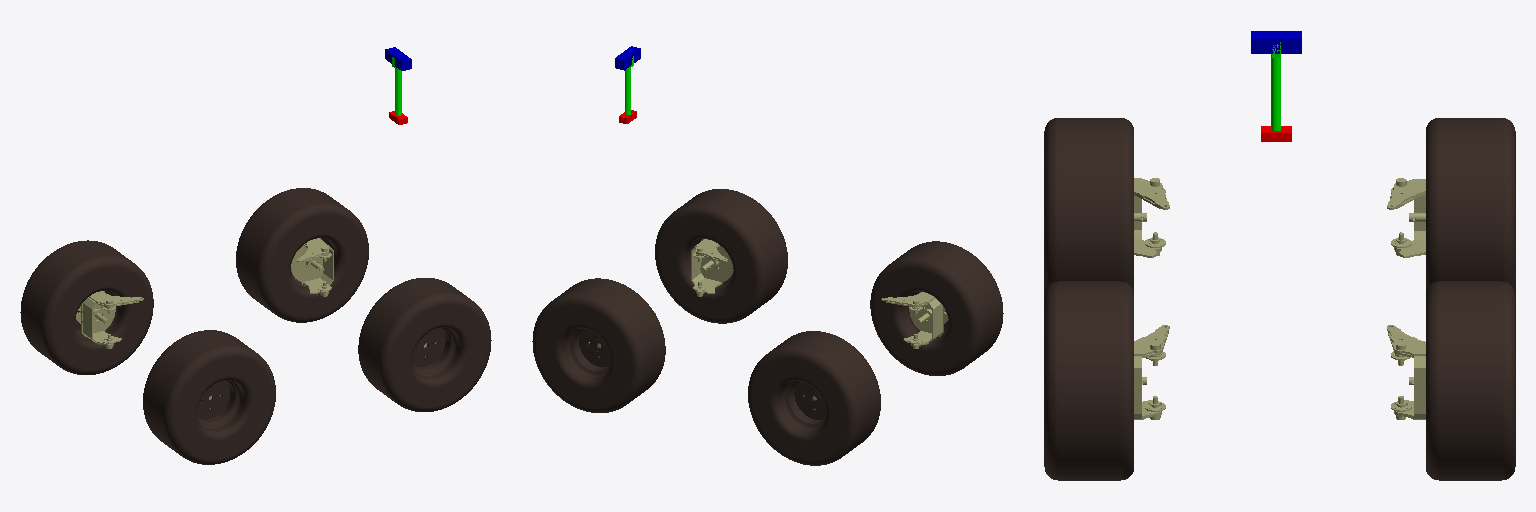
The robot description file, URDF, robot "h500_sprayer":
<?xml version="1.0" encoding="utf-8"?>
<!-- =================================================================================== -->
<!-- |    This document was autogenerated by xacro from [local-path]/catkin_redevel_ws/src/hada_explorer_bot/hada_explorer_description/urdf/h500_realsense.urdf.xacro | -->
<!-- |    EDITING THIS FILE BY HAND IS NOT RECOMMENDED                                 | -->
<!-- =================================================================================== -->
<!-- =================================================================================== -->
<!-- |    This document was autogenerated by xacro from [local-path]/catkin_redevel_ws/src/hada_explorer_bot/hada_explorer_description/urdf/h500.urdf.xacro | -->
<!-- |    EDITING THIS FILE BY HAND IS NOT RECOMMENDED                                 | -->
<!-- =================================================================================== -->
<robot name="h500_sprayer">
  <!-- =============== Link & Joint =============== -->
  <!-- realsense camera -->
  <material name="aluminum">
    <color rgba="0.5 0.5 0.5 1"/>
  </material>
  <material name="plastic">
    <color rgba="0.1 0.1 0.1 1"/>
  </material>
  <material name="invisible">
    <color rgba="0 0 0 0"/>
  </material>
  <material name="green">
    <color rgba="0 1 0 1"/>
  </material>
  <material name="grey">
    <color rgba="0.9 0.9 0.9 1"/>
  </material>
  <link name="base_link"/>
  <!-- camera body, with origin at bottom screw mount -->
  <joint name="camera_joint" type="fixed">
    <origin rpy="0 0 0" xyz="0 0 0"/>
    <parent link="base_link"/>
    <child link="camera_bottom_screw_frame"/>
  </joint>
  <link name="camera_bottom_screw_frame"/>
  <joint name="camera_link_joint" type="fixed">
    <origin rpy="0 0 0" xyz="0.0106 0.0175 0.0125"/>
    <parent link="camera_bottom_screw_frame"/>
    <child link="camera_link"/>
  </joint>
  <link name="camera_link">
    <visual>
      <!-- the mesh origin is at front plate in between the two infrared camera axes -->
      <origin rpy="1.57079632679 0 1.57079632679" xyz="0.0043 -0.0175 0"/>
      <geometry>
        <mesh filename="package://realsense2_description/meshes/d435.dae"/>
      </geometry>
    </visual>
    <collision>
      <origin rpy="0 0 0" xyz="0 -0.0175 0"/>
      <geometry>
        <box size="0.02505 0.09 0.025"/>
      </geometry>
    </collision>
    <inertial>
      <!-- The following are not reliable values, and should not be used for modeling -->
      <mass value="0.072"/>
      <origin xyz="0 0 0"/>
      <inertia ixx="0.003881243" ixy="0.0" ixz="0.0" iyy="0.000498940" iyz="0.0" izz="0.003879257"/>
    </inertial>
  </link>
  <!-- camera depth joints and links -->
  <joint name="camera_depth_joint" type="fixed">
    <origin rpy="0 0 0" xyz="0 0 0"/>
    <parent link="camera_link"/>
    <child link="camera_depth_frame"/>
  </joint>
  <link name="camera_depth_frame"/>
  <joint name="camera_depth_optical_joint" type="fixed">
    <origin rpy="-1.57079632679 0 -1.57079632679" xyz="0 0 0"/>
    <parent link="camera_depth_frame"/>
    <child link="camera_depth_optical_frame"/>
  </joint>
  <link name="camera_depth_optical_frame"/>
  <!-- camera left IR joints and links -->
  <joint name="camera_infra1_joint" type="fixed">
    <origin rpy="0 0 0" xyz="0 0.0 0"/>
    <parent link="camera_link"/>
    <child link="camera_infra1_frame"/>
  </joint>
  <link name="camera_infra1_frame"/>
  <joint name="camera_infra1_optical_joint" type="fixed">
    <origin rpy="-1.57079632679 0 -1.57079632679" xyz="0 0 0"/>
    <parent link="camera_infra1_frame"/>
    <child link="camera_infra1_optical_frame"/>
  </joint>
  <link name="camera_infra1_optical_frame"/>
  <!-- camera right IR joints and links -->
  <joint name="camera_infra2_joint" type="fixed">
    <origin rpy="0 0 0" xyz="0 -0.05 0"/>
    <parent link="camera_link"/>
    <child link="camera_infra2_frame"/>
  </joint>
  <link name="camera_infra2_frame"/>
  <joint name="camera_infra2_optical_joint" type="fixed">
    <origin rpy="-1.57079632679 0 -1.57079632679" xyz="0 0 0"/>
    <parent link="camera_infra2_frame"/>
    <child link="camera_infra2_optical_frame"/>
  </joint>
  <link name="camera_infra2_optical_frame"/>
  <!-- camera color joints and links -->
  <joint name="camera_color_joint" type="fixed">
    <origin rpy="0 0 0" xyz="0 0.015 0"/>
    <parent link="camera_link"/>
    <child link="camera_color_frame"/>
  </joint>
  <link name="camera_color_frame"/>
  <joint name="camera_color_optical_joint" type="fixed">
    <origin rpy="-1.57079632679 0 -1.57079632679" xyz="0 0 0"/>
    <parent link="camera_color_frame"/>
    <child link="camera_color_optical_frame"/>
  </joint>
  <link name="camera_color_optical_frame"/>
  <material name="blue">
    <color rgba="0 0 0.8 1"/>
  </material>
  <material name="red">
    <color rgba="1 0 0 1"/>
  </material>
  <material name="white">
    <color rgba="1 1 1 1"/>
  </material>
  <!-- camera and frame joint -->
  <link name="rbot_base2">
    <visual>
      <geometry>
        <box size="0.045 0.09 0.03"/>
      </geometry>
      <origin rpy="0 0 0" xyz="0 0 0"/>
      <material name="red"/>
    </visual>
  </link>
  <link name="servo_bottom2">
    <visual>
      <geometry>
        <cylinder length="0.25" radius="0.015"/>
      </geometry>
      <origin rpy="0 0 0" xyz="0 0 0"/>
      <material name="green"/>
    </visual>
  </link>
  <link name="up_mount2">
    <visual>
      <geometry>
        <box size="0.05 0.148 0.05"/>
      </geometry>
      <origin rpy="0 0. 0" xyz="0 0 0"/>
      <material name="blue"/>
    </visual>
  </link>
  <joint name="base_to_Servo_B2" type="fixed">
    <parent link="rbot_base2"/>
    <child link="servo_bottom2"/>
    <origin xyz="0 0 0.14"/>
  </joint>
  <joint name="servo_bottom_to_up_mount2" type="fixed">
    <parent link="servo_bottom2"/>
    <child link="up_mount2"/>
    <origin xyz="0 0 0.15"/>
  </joint>
  <joint name="mount_to_camera2" type="fixed">
    <parent link="up_mount2"/>
    <child link="base_link"/>
    <origin rpy="0 0 0" xyz="0.03 0 0.001"/>
  </joint>
  <!-- imu on camera -->
  <link name="imu_link">
    <visual>
      <geometry>
        <box size="0.05 0.026 0.05"/>
      </geometry>
      <material name="green"/>
    </visual>
  </link>
  <joint name="imu_joint" type="fixed">
    <origin rpy="0 0 0" xyz="0.0 0.0 0.28"/>
    <parent link="rbot_base2"/>
    <child link="imu_link"/>
  </joint>
  <!-- robot_base to frame stand camera base -->
  <joint name="baseto_framestand" type="fixed">
    <origin rpy="0 0 0" xyz="0.85 0 1.00"/>
    <parent link="robot_base"/>
    <child link="rbot_base2"/>
  </joint>
  <!-- Base -->
  <link name="base_footprint"/>
  <joint name="robot_base_joint" type="fixed">
    <origin rpy="0 0 0" xyz="0 0 0.15"/>
    <!-- 0 0 0.05 -->
    <parent link="base_footprint"/>
    <child link="robot_base"/>
  </joint>
  <link name="robot_base">
    <visual>
      <geometry>
        <mesh filename="package://h500_description/meshes/DAE/base/h500_body.dae"/>
      </geometry>
    </visual>
    <collision>
      <geometry>
        <mesh filename="package://h500_description/meshes/DAE/base/h500_body.dae"/>
      </geometry>
    </collision>
    <inertial>
      <origin xyz="0 0 0.017"/>
      <mass value="1.2"/>
      <inertia ixx="0.0001873" ixy="0" ixz="0" iyy="0.000055" iyz="0" izz="0.0002283"/>
    </inertial>
  </link>
  <joint name="front_right_steering_joint" type="revolute">
    <origin xyz="-0.442 0.361 0.0135"/>
    <parent link="robot_base"/>
    <child link="front_right_steering_link"/>
    <limit effort="5" lower="-2.1" upper="2.1" velocity="6.28"/>
    <axis xyz="0 0 2."/>
  </joint>
  <link name="front_right_steering_link">
    <visual>
      <geometry>
        <mesh filename="package://h500_description/meshes/DAE/suspension/front_right_link.dae"/>
      </geometry>
    </visual>
    <collision>
      <geometry>
        <mesh filename="package://h500_description/meshes/DAE/suspension/front_right_link.dae"/>
      </geometry>
    </collision>
    <inertial>
      <origin xyz="0 0 -0.02"/>
      <mass value="0.15"/>
      <inertia ixx="0.00001" ixy="0" ixz="0" iyy="0.00001" iyz="0" izz="0.000004"/>
    </inertial>
  </link>
  <joint name="front_left_steering_joint" type="revolute">
    <origin xyz="-0.442 -0.3495 0.0135"/>
    <parent link="robot_base"/>
    <child link="front_left_steering_link"/>
    <limit effort="5" lower="-2.1" upper="2.1" velocity="6.28"/>
    <axis xyz="0 0 1"/>
  </joint>
  <link name="front_left_steering_link">
    <visual>
      <geometry>
        <mesh filename="package://h500_description/meshes/DAE/suspension/front_left_link.dae"/>
      </geometry>
    </visual>
    <collision>
      <geometry>
        <mesh filename="package://h500_description/meshes/DAE/suspension/front_left_link.dae"/>
      </geometry>
    </collision>
    <inertial>
      <origin xyz="0 0 -0.02"/>
      <mass value="0.15"/>
      <inertia ixx="0.00001" ixy="0" ixz="0" iyy="0.00001" iyz="0" izz="0.000004"/>
    </inertial>
  </link>
  <joint name="rear_right_steering_joint" type="revolute">
    <origin xyz="0.676 0.361 0.0135"/>
    <parent link="robot_base"/>
    <child link="rear_right_steering_link"/>
    <limit effort="5" lower="-2.1" upper="2.1" velocity="6.28"/>
    <axis xyz="0 0 1"/>
  </joint>
  <link name="rear_right_steering_link">
    <visual>
      <geometry>
        <mesh filename="package://h500_description/meshes/DAE/suspension/rear_right_link.dae"/>
      </geometry>
    </visual>
    <collision>
      <geometry>
        <mesh filename="package://h500_description/meshes/DAE/suspension/rear_right_link.dae"/>
      </geometry>
    </collision>
    <inertial>
      <origin xyz="0 0 -0.02"/>
      <mass value="0.15"/>
      <inertia ixx="0.00001" ixy="0" ixz="0" iyy="0.00001" iyz="0" izz="0.000004"/>
    </inertial>
  </link>
  <joint name="rear_left_steering_joint" type="revolute">
    <origin xyz="0.676 -0.3495 0.0135"/>
    <parent link="robot_base"/>
    <child link="rear_left_steering_link"/>
    <limit effort="5" lower="-2.1" upper="2.1" velocity="6.28"/>
    <axis xyz="0 0 1"/>
  </joint>
  <link name="rear_left_steering_link">
    <visual>
      <geometry>
        <mesh filename="package://h500_description/meshes/DAE/suspension/rear_left_link.dae"/>
      </geometry>
    </visual>
    <collision>
      <geometry>
        <mesh filename="package://h500_description/meshes/DAE/suspension/rear_left_link.dae"/>
      </geometry>
    </collision>
    <inertial>
      <origin xyz="0 0 -0.02"/>
      <mass value="0.15"/>
      <inertia ixx="0.00001" ixy="0" ixz="0" iyy="0.00001" iyz="0" izz="0.000004"/>
    </inertial>
  </link>
  <joint name="ffr_wheel_joint" type="continuous">
    <origin rpy="0 0 3.14159274" xyz="-0.0004 0.07 0.118"/>
    <parent link="front_right_steering_link"/>
    <child link="ffr_wheel_link"/>
    <limit effort="1.5" velocity="20"/>
    <axis xyz="0 1 0"/>
  </joint>
  <link name="ffr_wheel_link">
    <visual>
      <geometry>
        <mesh filename="package://h500_description/meshes/DAE/wheel/H500_wheel.dae"/>
      </geometry>
    </visual>
    <collision>
      <geometry>
        <mesh filename="package://h500_description/meshes/DAE/wheel/H500_wheel.dae"/>
      </geometry>
    </collision>
    <inertial>
      <origin xyz="0.0 -0.007 -0.0"/>
      <mass value="0.05"/>
      <inertia ixx="0.00001" ixy="0" ixz="0" iyy="0.000018" iyz="0" izz="0.00001"/>
    </inertial>
  </link>
  <joint name="ffl_wheel_joint" type="continuous">
    <origin rpy="0 0 3.14159274" xyz="-0.0004 -0.32 0.118"/>
    <parent link="front_left_steering_link"/>
    <child link="ffl_wheel_link"/>
    <limit effort="1.5" velocity="20"/>
    <axis xyz="0 -1 0"/>
  </joint>
  <link name="ffl_wheel_link">
    <visual>
      <geometry>
        <mesh filename="package://h500_description/meshes/DAE/wheel/H500_wheel.dae"/>
      </geometry>
    </visual>
    <collision>
      <geometry>
        <mesh filename="package://h500_description/meshes/DAE/wheel/H500_wheel.dae"/>
      </geometry>
    </collision>
    <inertial>
      <origin xyz="0.0 -0.007 -0.0"/>
      <mass value="0.05"/>
      <inertia ixx="0.00001" ixy="0" ixz="0" iyy="0.000018" iyz="0" izz="0.00001"/>
    </inertial>
  </link>
  <joint name="rfr_wheel_joint" type="continuous">
    <origin rpy="0 0 3.14159274" xyz="-0.0004 0.07 0.118"/>
    <parent link="rear_right_steering_link"/>
    <child link="rfr_wheel_link"/>
    <limit effort="1.5" velocity="20"/>
    <axis xyz="0 1 0"/>
  </joint>
  <link name="rfr_wheel_link">
    <visual>
      <geometry>
        <mesh filename="package://h500_description/meshes/DAE/wheel/H500_wheel.dae"/>
      </geometry>
    </visual>
    <collision>
      <geometry>
        <mesh filename="package://h500_description/meshes/DAE/wheel/H500_wheel.dae"/>
      </geometry>
    </collision>
    <inertial>
      <origin xyz="0.0 -0.007 -0.0"/>
      <mass value="0.05"/>
      <inertia ixx="0.00001" ixy="0" ixz="0" iyy="0.000018" iyz="0" izz="0.00001"/>
    </inertial>
  </link>
  <joint name="rfl_wheel_joint" type="continuous">
    <origin rpy="0 0 3.14159274" xyz="-0.0004 -0.32 0.118"/>
    <parent link="rear_left_steering_link"/>
    <child link="rfl_wheel_link"/>
    <limit effort="1.5" velocity="20"/>
    <axis xyz="0 -1 0"/>
  </joint>
  <link name="rfl_wheel_link">
    <visual>
      <geometry>
        <mesh filename="package://h500_description/meshes/DAE/wheel/H500_wheel.dae"/>
      </geometry>
    </visual>
    <collision>
      <geometry>
        <mesh filename="package://h500_description/meshes/DAE/wheel/H500_wheel.dae"/>
      </geometry>
    </collision>
    <inertial>
      <origin xyz="0.0 -0.007 -0.0"/>
      <mass value="0.05"/>
      <inertia ixx="0.00001" ixy="0" ixz="0" iyy="0.000018" iyz="0" izz="0.00001"/>
    </inertial>
  </link>
  <transmission name="ffr_wheel_trans">
    <type>transmission_interface/SimpleTransmission</type>
    <joint name="ffr_wheel_joint">
      <hardwareInterface>hardware_interface/VelocityJointInterface</hardwareInterface>
    </joint>
    <actuator name="ffr_wheel_motor">
      <hardwareInterface>hardware_interface/VelocityJointInterface</hardwareInterface>
      <mechanicalReduction>1</mechanicalReduction>
    </actuator>
  </transmission>
  <transmission name="ffl_wheel_trans">
    <type>transmission_interface/SimpleTransmission</type>
    <joint name="ffl_wheel_joint">
      <hardwareInterface>hardware_interface/VelocityJointInterface</hardwareInterface>
    </joint>
    <actuator name="ffl_wheel_motor">
      <hardwareInterface>hardware_interface/VelocityJointInterface</hardwareInterface>
      <mechanicalReduction>1</mechanicalReduction>
    </actuator>
  </transmission>
  <transmission name="rfr_wheel_trans">
    <type>transmission_interface/SimpleTransmission</type>
    <joint name="rfr_wheel_joint">
      <hardwareInterface>hardware_interface/VelocityJointInterface</hardwareInterface>
    </joint>
    <actuator name="rfr_wheel_motor">
      <hardwareInterface>hardware_interface/VelocityJointInterface</hardwareInterface>
      <mechanicalReduction>1</mechanicalReduction>
    </actuator>
  </transmission>
  <transmission name="rfl_wheel_trans">
    <type>transmission_interface/SimpleTransmission</type>
    <joint name="rfl_wheel_joint">
      <hardwareInterface>hardware_interface/VelocityJointInterface</hardwareInterface>
    </joint>
    <actuator name="rfl_wheel_motor">
      <hardwareInterface>hardware_interface/VelocityJointInterface</hardwareInterface>
      <mechanicalReduction>1</mechanicalReduction>
    </actuator>
  </transmission>
  <transmission name="front_right_steering_trans">
    <type>transmission_interface/SimpleTransmission</type>
    <joint name="front_right_steering_joint">
      <hardwareInterface>hardware_interface/PositionJointInterface</hardwareInterface>
    </joint>
    <actuator name="front_right_steering_motor">
      <hardwareInterface>hardware_interface/PositionJointInterface</hardwareInterface>
      <mechanicalReduction>30</mechanicalReduction>
    </actuator>
  </transmission>
  <transmission name="front_left_steering_trans">
    <type>transmission_interface/SimpleTransmission</type>
    <joint name="front_left_steering_joint">
      <hardwareInterface>hardware_interface/PositionJointInterface</hardwareInterface>
    </joint>
    <actuator name="front_left_steering_motor">
      <hardwareInterface>hardware_interface/PositionJointInterface</hardwareInterface>
      <mechanicalReduction>30</mechanicalReduction>
    </actuator>
  </transmission>
  <transmission name="rear_right_steering_trans">
    <type>transmission_interface/SimpleTransmission</type>
    <joint name="rear_right_steering_joint">
      <hardwareInterface>hardware_interface/PositionJointInterface</hardwareInterface>
    </joint>
    <actuator name="rear_right_steering_motor">
      <hardwareInterface>hardware_interface/PositionJointInterface</hardwareInterface>
      <mechanicalReduction>30</mechanicalReduction>
    </actuator>
  </transmission>
  <transmission name="rear_left_steering_trans">
    <type>transmission_interface/SimpleTransmission</type>
    <joint name="rear_left_steering_joint">
      <hardwareInterface>hardware_interface/PositionJointInterface</hardwareInterface>
    </joint>
    <actuator name="rear_left_steering_motor">
      <hardwareInterface>hardware_interface/PositionJointInterface</hardwareInterface>
      <mechanicalReduction>30</mechanicalReduction>
    </actuator>
  </transmission>
  <!-- =============== Gazebo =============== -->
  <gazebo>
    <plugin filename="libgazebo_ros_control.so" name="gazebo_ros_control">
    </plugin>
  </gazebo>
  <gazebo reference="robot_base">
    <selfCollide>false</selfCollide>
    <mu1 value="0.05"/>
    <mu2 value="0.05"/>
  </gazebo>
  <gazebo reference="fr_wheel_link">
    <selfCollide>false</selfCollide>
    <mu1 value="1.2"/>
    <mu2 value="1.2"/>
  </gazebo>
  <gazebo reference="fl_wheel_link">
    <selfCollide>false</selfCollide>
    <mu1 value="1.2"/>
    <mu2 value="1.2"/>
  </gazebo>
  <gazebo reference="rr_wheel_link">
    <selfCollide>false</selfCollide>
    <mu1 value="1.2"/>
    <mu2 value="1.2"/>
  </gazebo>
  <gazebo reference="rl_wheel_link">
    <selfCollide>false</selfCollide>
    <mu1 value="1.2"/>
    <mu2 value="1.2"/>
  </gazebo>
  <gazebo reference="front_right_steering_link">
    <selfCollide>false</selfCollide>
    <mu1 value="0.05"/>
    <mu2 value="0.05"/>
  </gazebo>
  <gazebo reference="front_left_steering_link">
    <selfCollide>false</selfCollide>
    <mu1 value="0.05"/>
    <mu2 value="0.05"/>
  </gazebo>
  <gazebo reference="rear_right_steering_link">
    <selfCollide>false</selfCollide>
    <mu1 value="0.05"/>
    <mu2 value="0.05"/>
  </gazebo>
  <gazebo reference="rear_left_steering_link">
    <selfCollide>false</selfCollide>
    <mu1 value="0.05"/>
    <mu2 value="0.05"/>
  </gazebo>
</robot>

--- What the picture shows (computed from the rendered views, not written in the file) ---
The picture shows the robot from 3 angles, left to right: view 1: azimuth 30°, elevation 25°; view 2: azimuth 150°, elevation 25°; view 3: azimuth 270°, elevation 25°; orthographic projection.
Robot: h500_sprayer — 25 links, 24 joints (4 revolute, 4 continuous, 16 fixed); root link base_footprint; default pose: all joints at 0.
Visible links, largest first — view 1: ffl_wheel_link, rfl_wheel_link, ffr_wheel_link, rfr_wheel_link, rear_right_steering_link, front_right_steering_link; view 2: ffr_wheel_link, rfr_wheel_link, ffl_wheel_link, rfl_wheel_link, rear_left_steering_link, front_left_steering_link; view 3: rfr_wheel_link, rfl_wheel_link, ffr_wheel_link, ffl_wheel_link, rear_right_steering_link, front_right_steering_link, rear_left_steering_link, front_left_steering_link, up_mount2, servo_bottom2.
Boxes of the visible links, left/top/right/bottom form: ffl_wheel_link: left=143, top=330, right=275, bottom=464; rfl_wheel_link: left=358, top=278, right=491, bottom=411; ffr_wheel_link: left=20, top=240, right=153, bottom=374; rfr_wheel_link: left=236, top=188, right=368, bottom=322; rear_right_steering_link: left=291, top=238, right=333, bottom=296; front_right_steering_link: left=76, top=291, right=143, bottom=348; ffr_wheel_link: left=748, top=331, right=880, bottom=465; rfr_wheel_link: left=532, top=278, right=665, bottom=412; ffl_wheel_link: left=870, top=241, right=1003, bottom=375; rfl_wheel_link: left=655, top=189, right=787, bottom=323; rear_left_steering_link: left=691, top=239, right=733, bottom=296; front_left_steering_link: left=881, top=292, right=948, bottom=348; rfr_wheel_link: left=1426, top=281, right=1515, bottom=480; rfl_wheel_link: left=1044, top=281, right=1133, bottom=480; ffr_wheel_link: left=1426, top=118, right=1515, bottom=294; ffl_wheel_link: left=1044, top=118, right=1133, bottom=294; rear_right_steering_link: left=1387, top=325, right=1425, bottom=419; front_right_steering_link: left=1387, top=178, right=1425, bottom=257; rear_left_steering_link: left=1134, top=325, right=1169, bottom=419; front_left_steering_link: left=1134, top=178, right=1169, bottom=257; up_mount2: left=1251, top=31, right=1301, bottom=53; servo_bottom2: left=1271, top=54, right=1280, bottom=130.
Bounding box of the posed robot: 1.69 × 1.36 × 1.47 m (x, y, z).
8 mesh visuals loaded from 7 distinct referenced files (5 Collada DAE); not drawn: 2 (reference not matched to a file when rendering).
